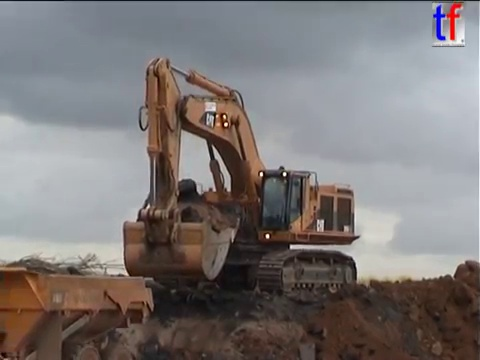excavator: (119, 54, 363, 305)
truck: (1, 262, 156, 360)
